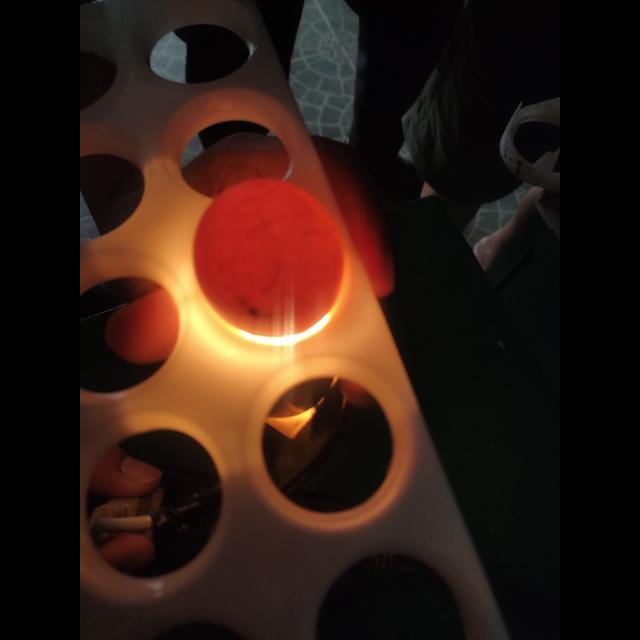Infertile: (195, 173, 342, 333)
